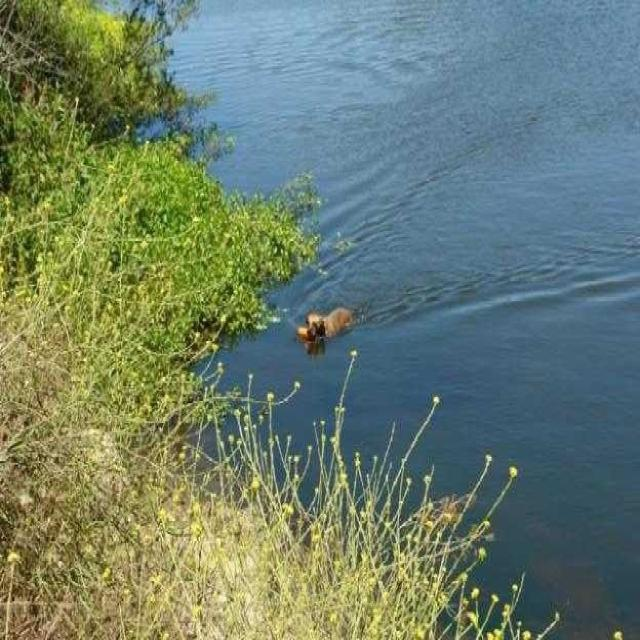Ponds: (165, 6, 640, 632)
